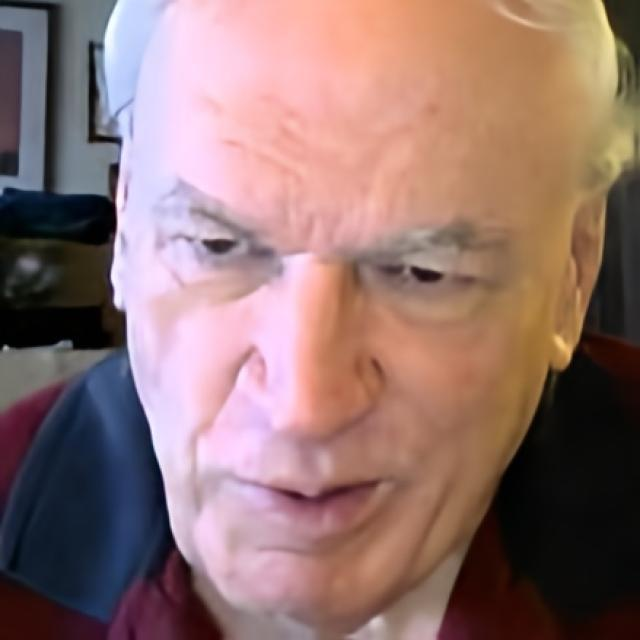anger: (123, 0, 560, 618)
